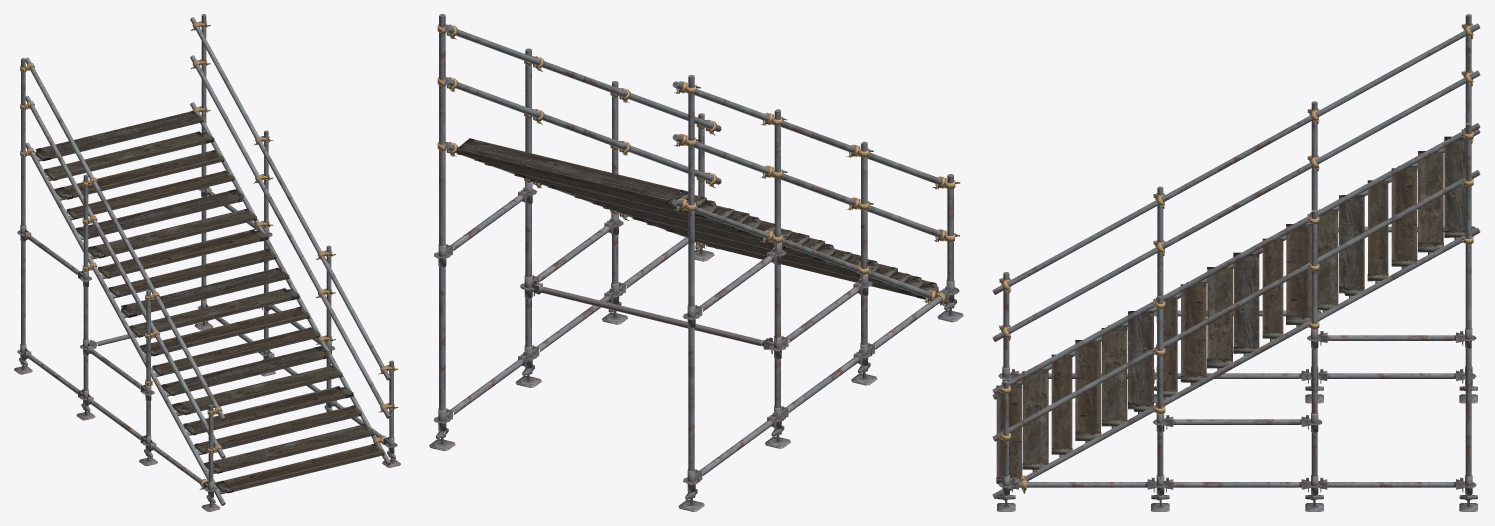
The model's file is improvised_walkway_450x300_stairs_a.glb.
The picture shows the model from 3 angles, left to right: view 1: azimuth 30°, elevation 25°; view 2: azimuth 150°, elevation 25°; view 3: azimuth 270°, elevation 25°; orthographic projection. The views are drawn at different scales.
Parts seen in each view (by area): view 1: improvised_walkway_450x300_stairs_a; view 2: improvised_walkway_450x300_stairs_a; view 3: improvised_walkway_450x300_stairs_a.
Boxes of the visible parts, bbox=[...] form: improvised_walkway_450x300_stairs_a: bbox=[14, 14, 400, 511]; improvised_walkway_450x300_stairs_a: bbox=[429, 14, 963, 511]; improvised_walkway_450x300_stairs_a: bbox=[992, 14, 1480, 511].
Size of the model in its own units: 2.68 by 4.12 by 4.75.
Materials: 1 (1 with a texture image).
